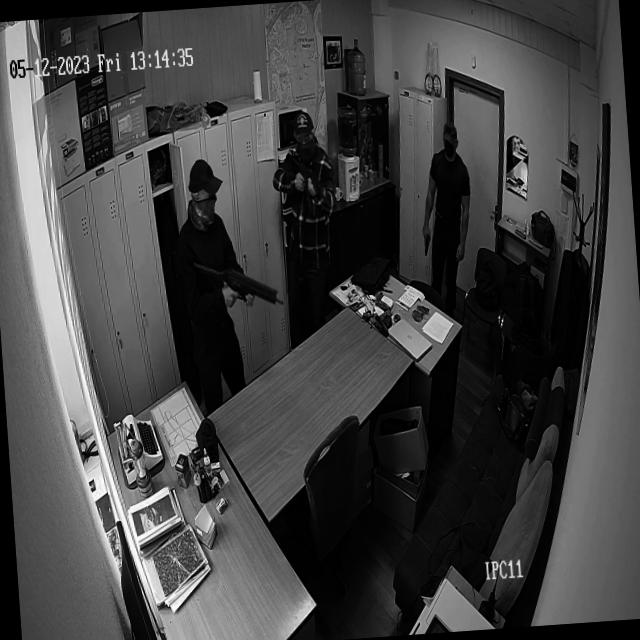gun: (191, 253, 284, 314), (291, 152, 330, 212), (422, 230, 432, 258)
person with a gun: (172, 158, 258, 400), (278, 114, 340, 315), (416, 123, 474, 304)
